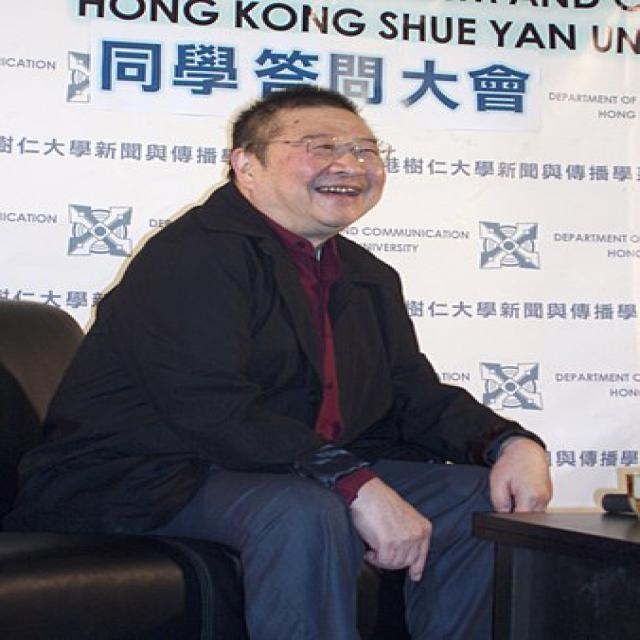sit: (29, 98, 539, 640)
